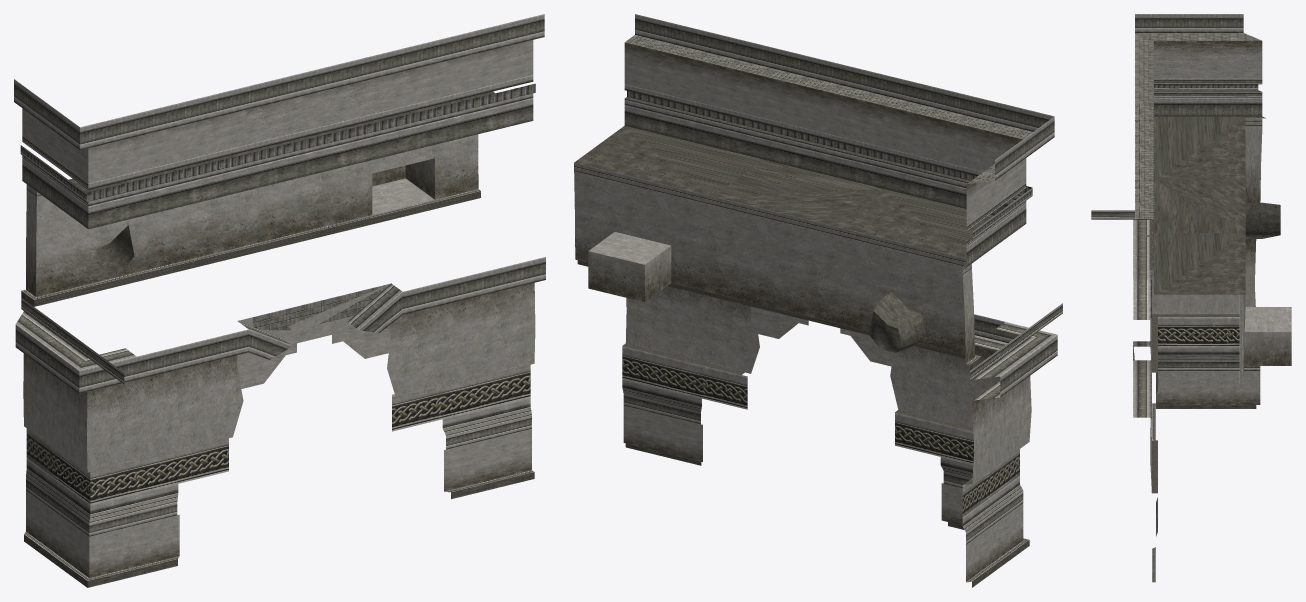
File: DWARF_PALACE_MAINHALL_WALL02B.fbx
The picture shows the model from 3 angles, left to right: view 1: azimuth 30°, elevation 25°; view 2: azimuth 150°, elevation 25°; view 3: azimuth 270°, elevation 25°; orthographic projection. The views are drawn at different scales.
Parts seen in each view (by area): view 1: DWARF_PALACE_MAINHALL_WALL02B; view 2: DWARF_PALACE_MAINHALL_WALL02B; view 3: DWARF_PALACE_MAINHALL_WALL02B.
Boxes of the visible parts, x1,y1,x2,y2 form: DWARF_PALACE_MAINHALL_WALL02B: (14, 14, 545, 587); DWARF_PALACE_MAINHALL_WALL02B: (574, 14, 1062, 587); DWARF_PALACE_MAINHALL_WALL02B: (1091, 14, 1291, 582).
Bounding box in the file's own units: 212004 × 205000 × 95978.
10 materials, 10 textured.
